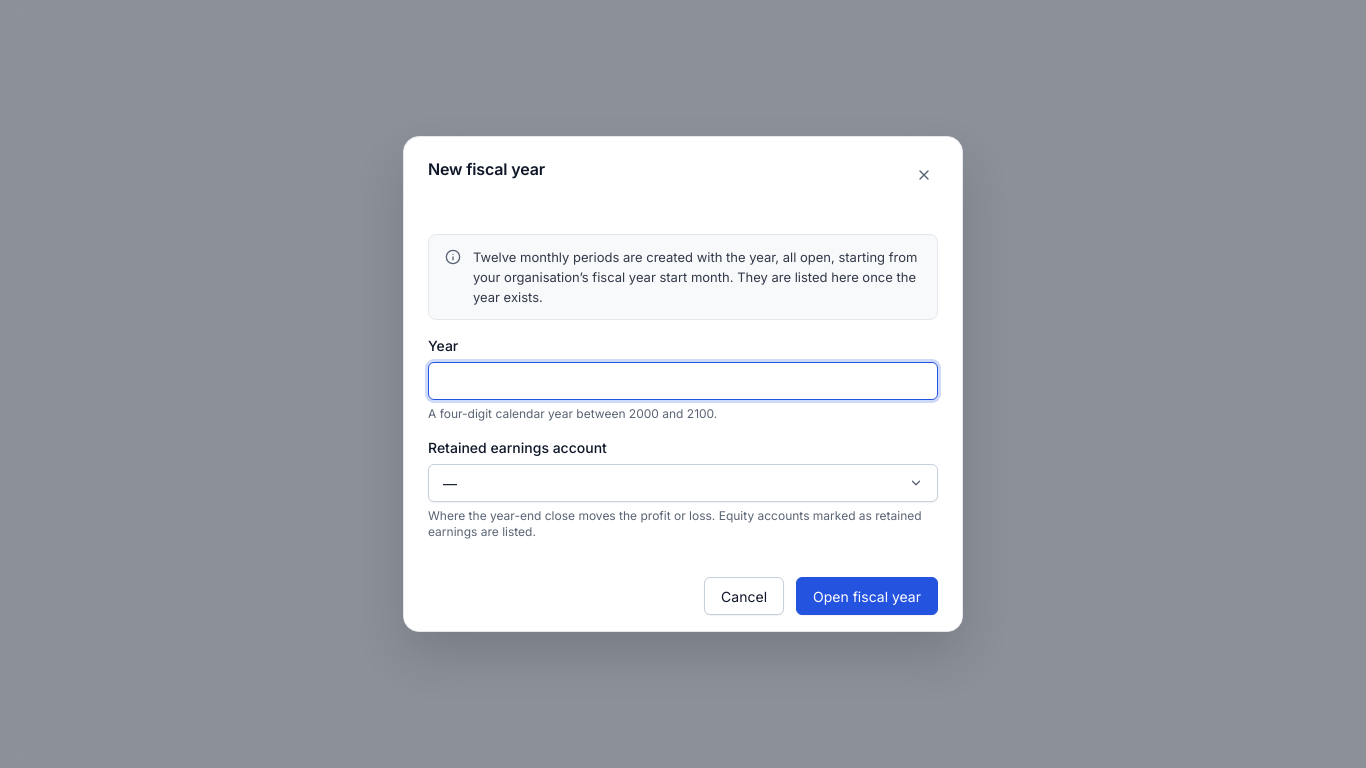
CreateFiscalYearForm › offers the retained earnings account by code and name
What coordinates should you click on to do the following:
click the dropdown named "Retained earnings account"
I would click on:
 (450, 483)
Its box is [428,464,938,502].
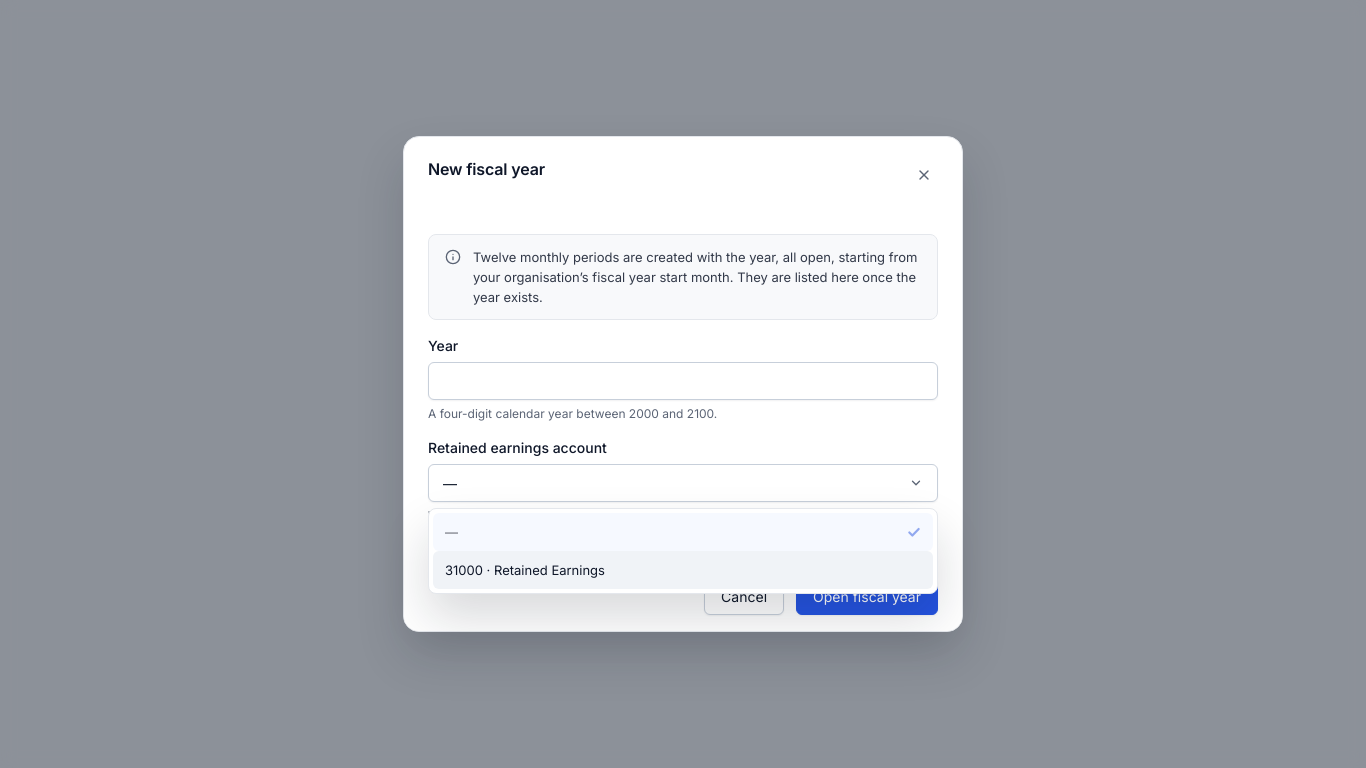
Now the list is shown, box [428,508,938,594]
Now the option "31000 · Retained Earnings" is shown, box [433,551,933,589]
